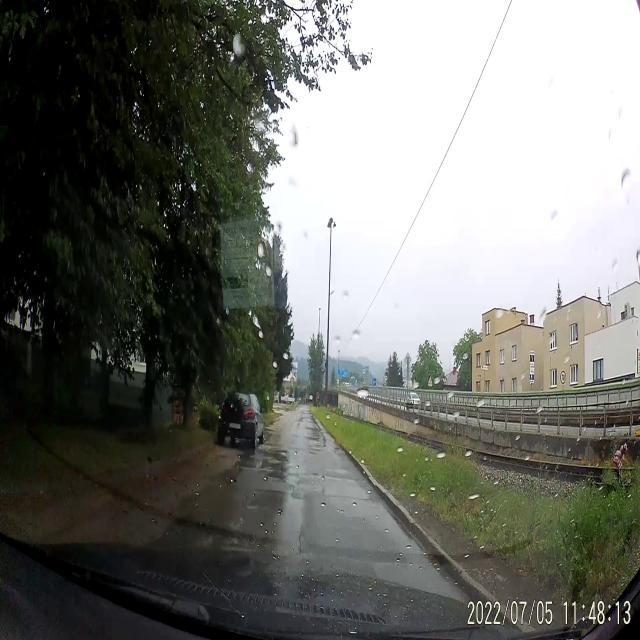Pothole: (310, 468, 352, 488), (255, 480, 286, 497), (308, 437, 328, 448), (305, 424, 322, 434)
